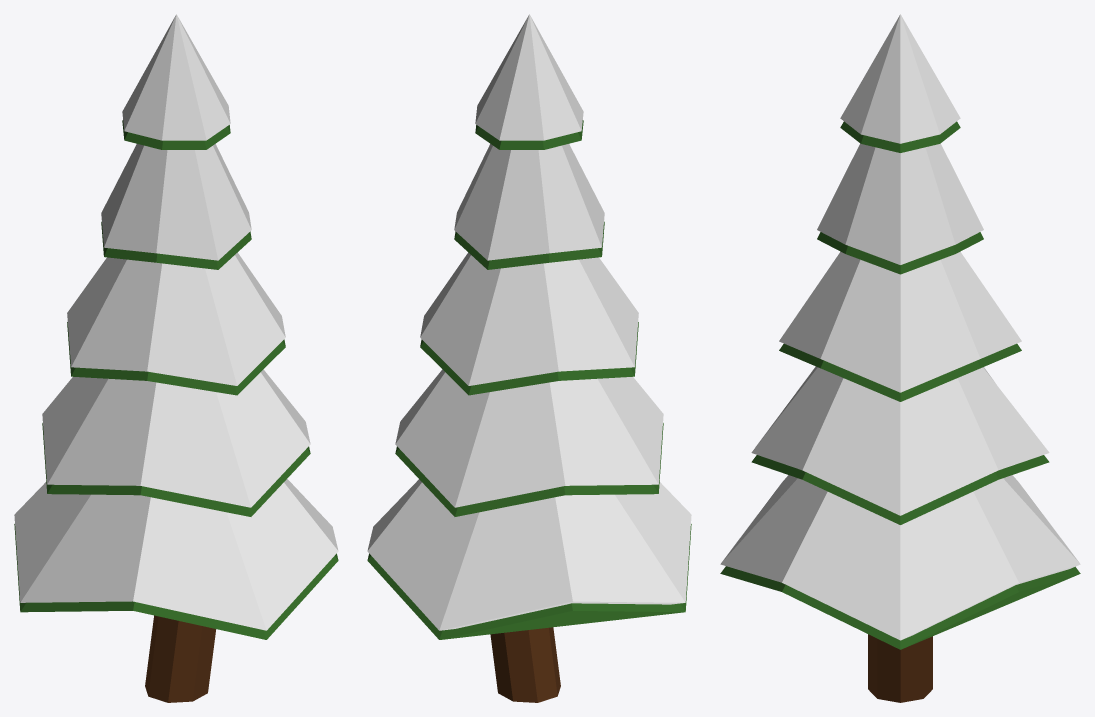
File: tree (snow).fbx
3 views of the same model, side by side, from view 1: azimuth 30°, elevation 25°; view 2: azimuth 150°, elevation 25°; view 3: azimuth 270°, elevation 25° (orthographic).
Parts seen in each view (by area): view 1: Tree (Snow); view 2: Tree (Snow); view 3: Tree (Snow).
Part boxes in pixels (left/top/right/bottom): Tree (Snow): left=14, top=14, right=338, bottom=702; Tree (Snow): left=367, top=14, right=691, bottom=702; Tree (Snow): left=720, top=14, right=1080, bottom=702.
Bounding box in the file's own units: 399 × 825 × 399.
